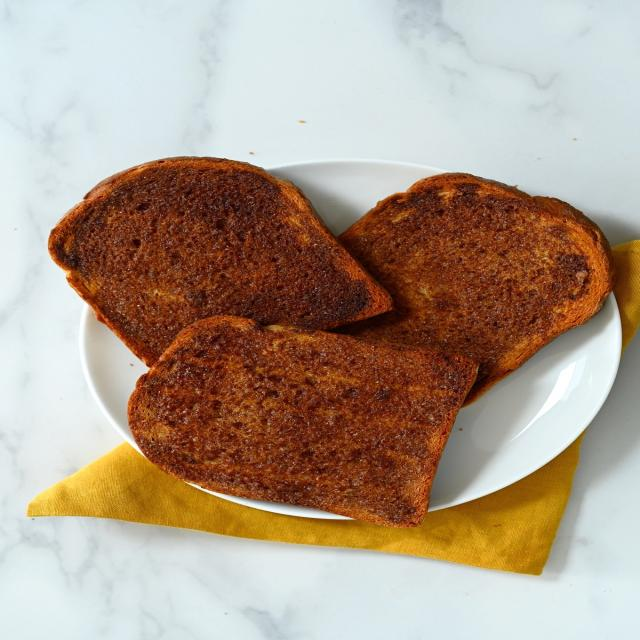Bread: (128, 316, 478, 528), (49, 158, 392, 366), (338, 172, 613, 404)
